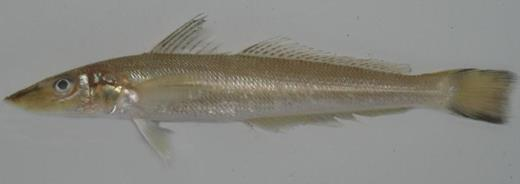kiss: (5, 17, 513, 170)
